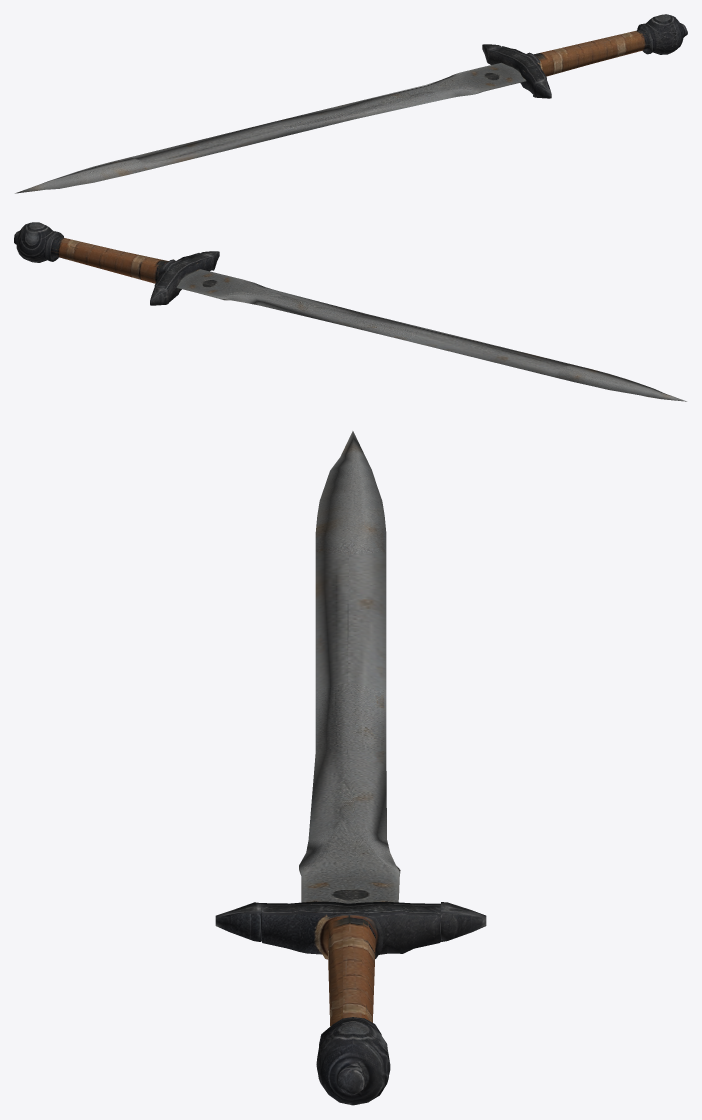
The model's file is sword_meshy.glb.
3 views of the same model, one above another, from view 1: azimuth 30°, elevation 25°; view 2: azimuth 150°, elevation 25°; view 3: azimuth 270°, elevation 25° (orthographic). The views are drawn at different scales.
Bounding box in the file's own units: 0.9546 × 0.0503 × 0.1665.
Materials: 1 (1 with a texture image).
